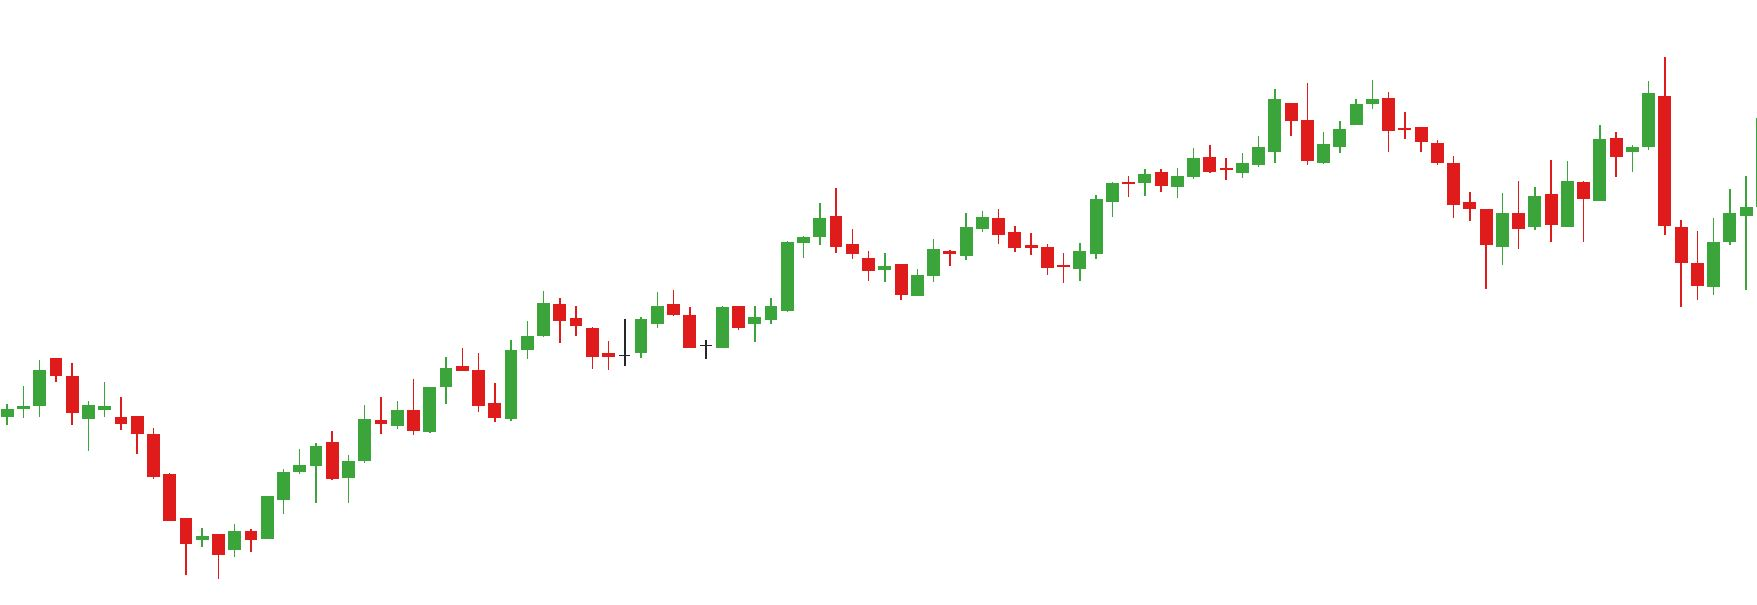buy: (956, 215, 1088, 291)
